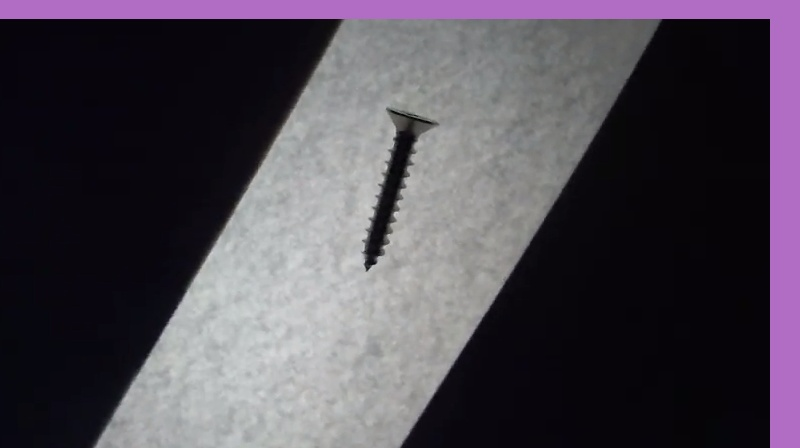S001: (352, 99, 441, 276)
